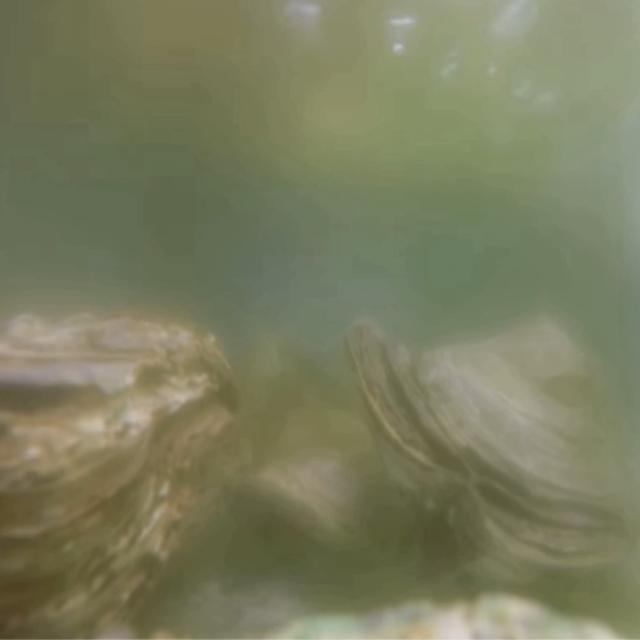Oyster-Closed: (1, 311, 255, 640), (341, 316, 640, 590)
Oyster-Indeterminate: (246, 408, 399, 564)
